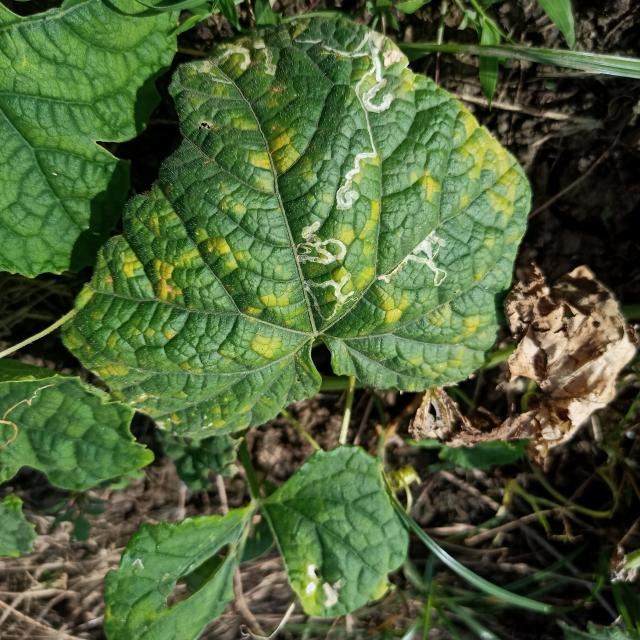disease_cucumber: (97, 26, 517, 434)
